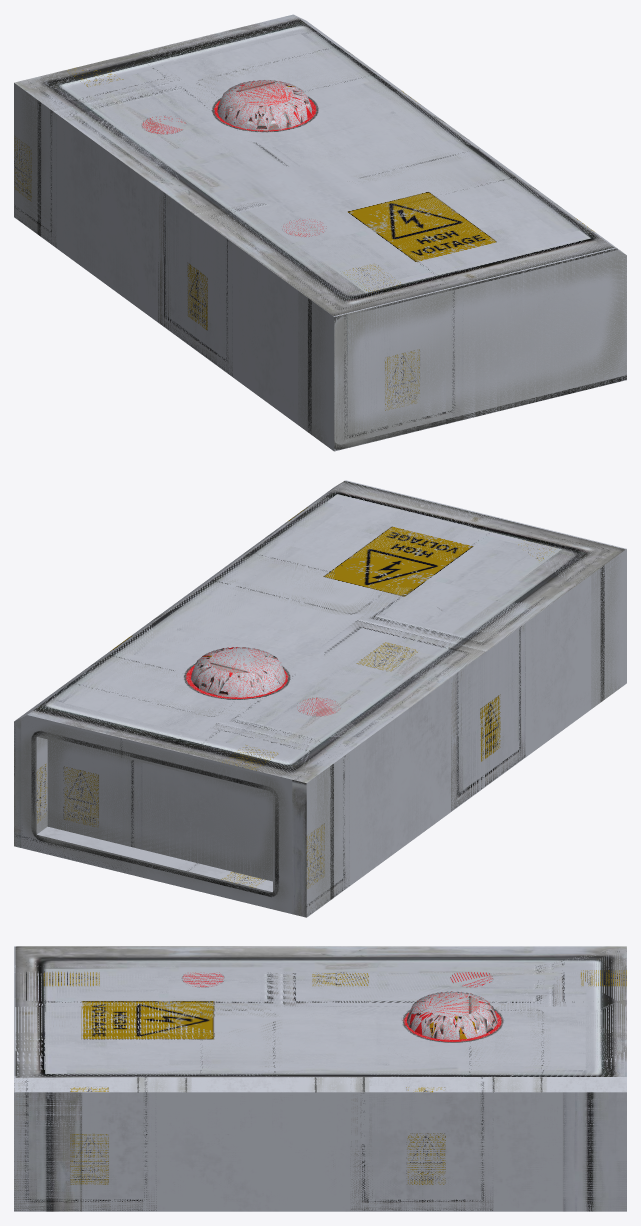
Rendered from powerswitch.fbx.
3 views of the same model, one above another, from view 1: azimuth 30°, elevation 25°; view 2: azimuth 150°, elevation 25°; view 3: azimuth 270°, elevation 25° (orthographic). The views are drawn at different scales.
Visible parts, largest first — view 1: PowerSwitch; view 2: PowerSwitch; view 3: PowerSwitch.
Boxes of the visible parts, box(x1,y1,x2,y2) form: PowerSwitch: box(14, 14, 626, 451); PowerSwitch: box(14, 480, 626, 917); PowerSwitch: box(14, 946, 626, 1211).
Size of the model in its own units: 23.06 by 11.38 by 43.69.
